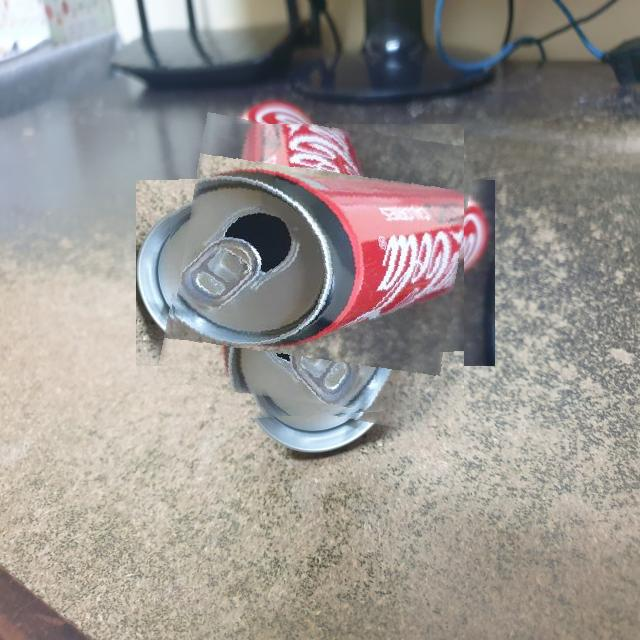recyclable: (167, 124, 464, 422)
